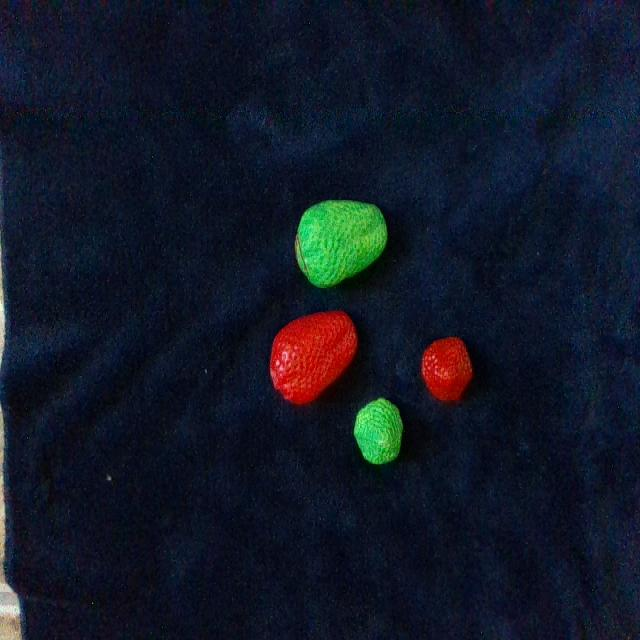chica_roja: (421, 337, 472, 400)
grande_roja: (270, 312, 357, 403)
verde: (296, 200, 386, 287), (354, 399, 402, 464)
